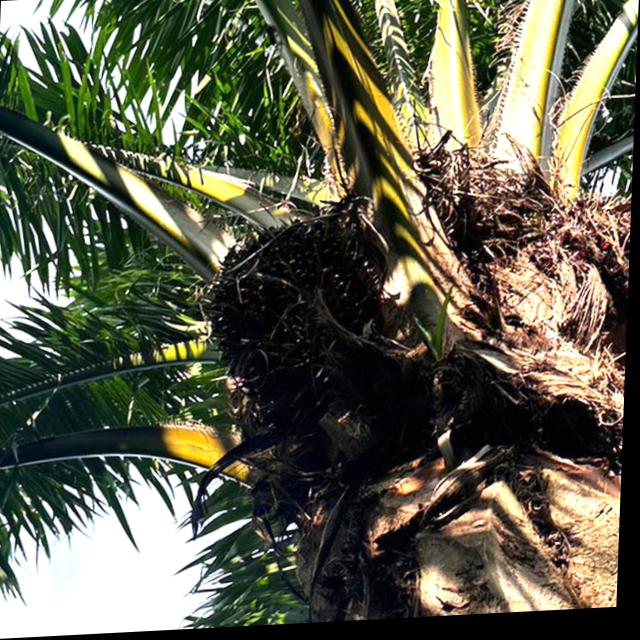ripe: (206, 214, 393, 401)
